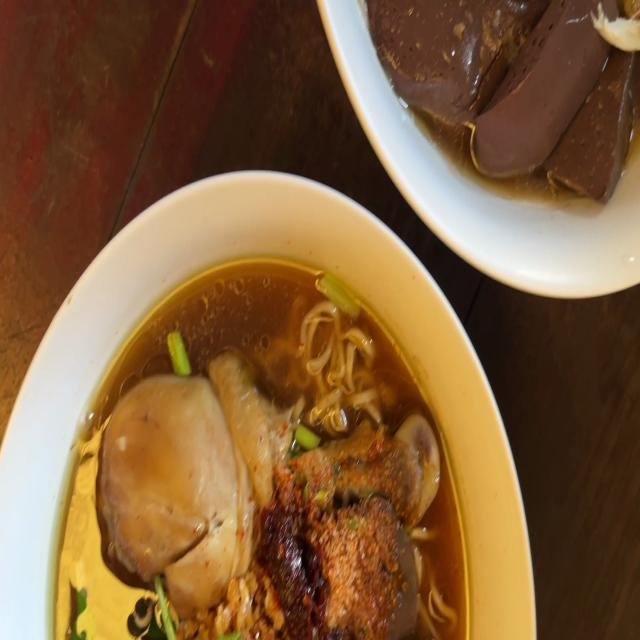noodle: (36, 247, 476, 640), (358, 0, 640, 224)
